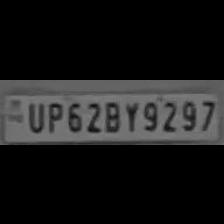2: (158, 96, 178, 132), (83, 97, 101, 132)
6: (64, 97, 82, 132)
7: (196, 96, 216, 130)
9: (140, 96, 158, 132), (178, 96, 196, 130)
B: (102, 98, 120, 132)
P: (45, 97, 63, 132)
U: (23, 97, 45, 132)
Y: (122, 97, 139, 132)
